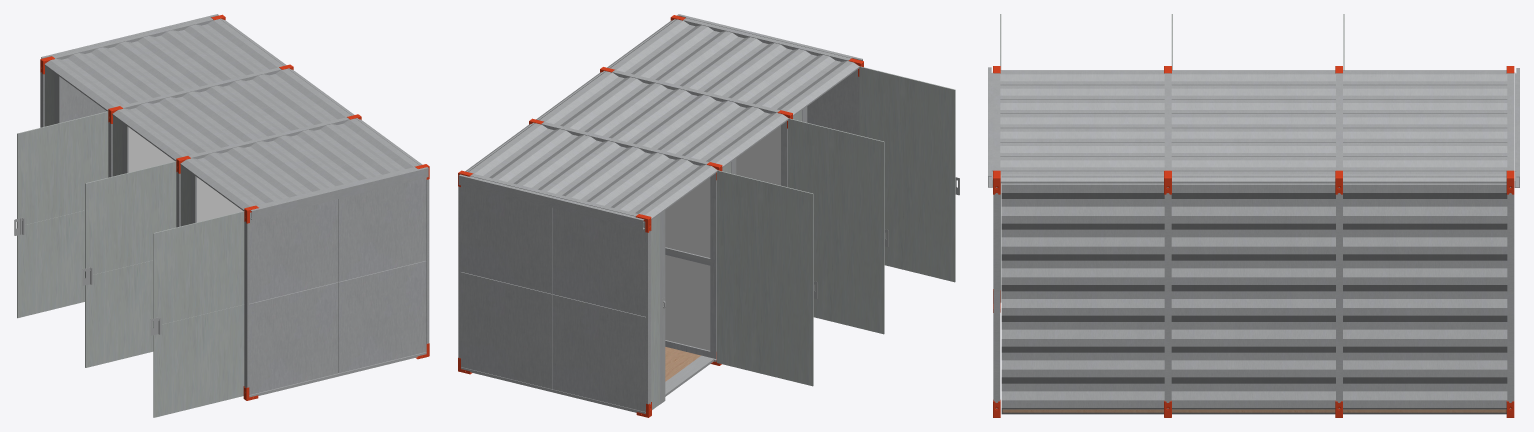
Rendered from 9S3_opened.glb.
The picture shows the model from 3 angles, left to right: view 1: azimuth 30°, elevation 25°; view 2: azimuth 150°, elevation 25°; view 3: azimuth 270°, elevation 25°; orthographic projection. The views are drawn at different scales.
Parts seen in each view (by area): view 1: leftSideOfDoors.001, celing, Cube.001, frontRim, gutter, Wall.060, Cube, Wall, corners, gutter.001, back; view 2: leftSideOfDoors.001, celing, Cube, Wall.030, frontRim, gutter.001, Cube.001, Wall, Wall.031, corners, floor, floor.002 (+1 smaller); view 3: back, celing, frontRim, floor.002, corners, gutter.001, gutter, leftSideOfDoors.001.
Boxes of the visible parts, x1,y1,x2,y2 form: leftSideOfDoors.001: [14, 66, 244, 417]; celing: [44, 19, 422, 210]; Cube.001: [249, 177, 426, 394]; frontRim: [40, 17, 429, 397]; gutter: [250, 167, 428, 219]; Wall.060: [128, 127, 174, 172]; Cube: [60, 77, 106, 122]; Wall: [197, 177, 242, 222]; corners: [40, 14, 429, 400]; gutter.001: [41, 14, 218, 58]; back: [220, 18, 420, 165]; leftSideOfDoors.001: [651, 66, 959, 409]; celing: [465, 19, 859, 219]; Cube: [460, 185, 645, 411]; Wall.030: [665, 177, 710, 350]; frontRim: [458, 18, 859, 413]; gutter.001: [458, 174, 644, 229]; Cube.001: [807, 69, 858, 135]; Wall: [736, 126, 780, 185]; Wall.031: [665, 173, 716, 358]; corners: [458, 15, 863, 417]; floor: [665, 355, 714, 396]; floor.002: [665, 347, 700, 381]; back: [1001, 175, 1507, 414]; celing: [1000, 70, 1507, 183]; frontRim: [993, 73, 1514, 408]; floor.002: [1002, 409, 1506, 412]; corners: [993, 66, 1514, 417]; gutter.001: [1514, 68, 1519, 187]; gutter: [988, 67, 993, 187]; leftSideOfDoors.001: [1000, 14, 1344, 302].
Size of what is drawn, in the model's own units: 35 by 23.06 by 46.25.
Materials: 9 (8 with a texture image).
